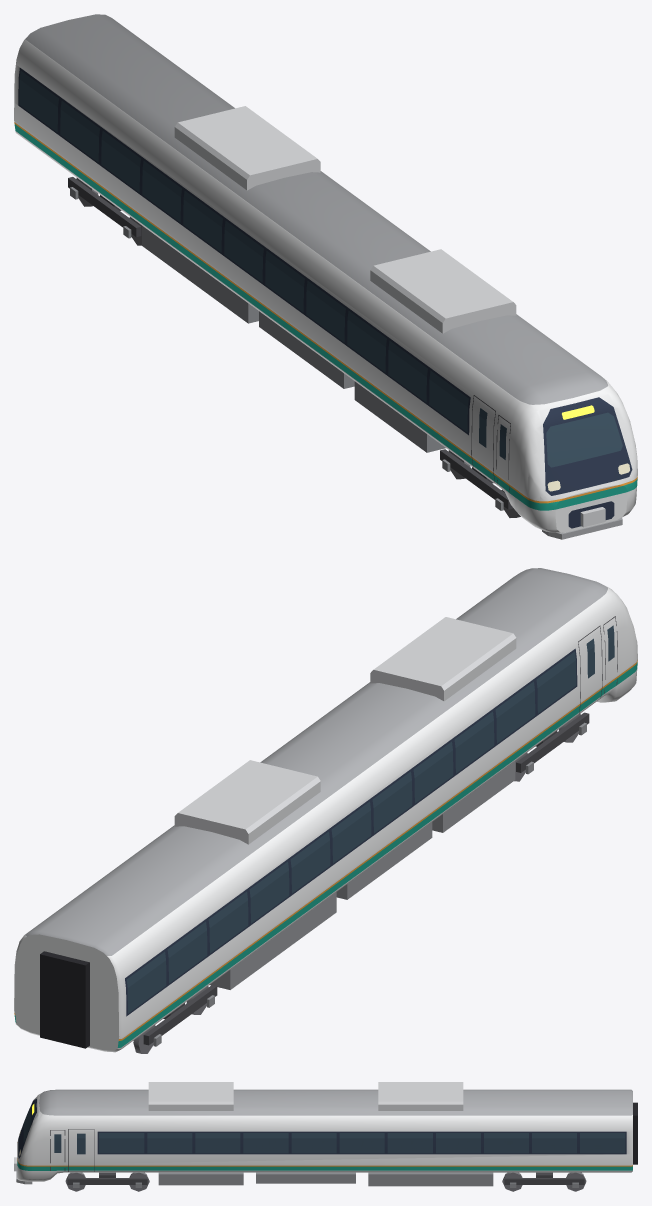
3 renders of one model, top to bottom at view 1: azimuth 30°, elevation 25°; view 2: azimuth 150°, elevation 25°; view 3: azimuth 270°, elevation 25°, orthographic. The views are drawn at different scales.
Parts seen in each view (by area): view 1: 21_0; view 2: 21_0; view 3: 21_0.
Part boxes in pixels (x1,y1,x2,y2): 21_0: (14,14,637,539); 21_0: (14,568,637,1053); 21_0: (14,1082,637,1191).
Size of the model in its own units: 2.96 by 4.02 by 25.
